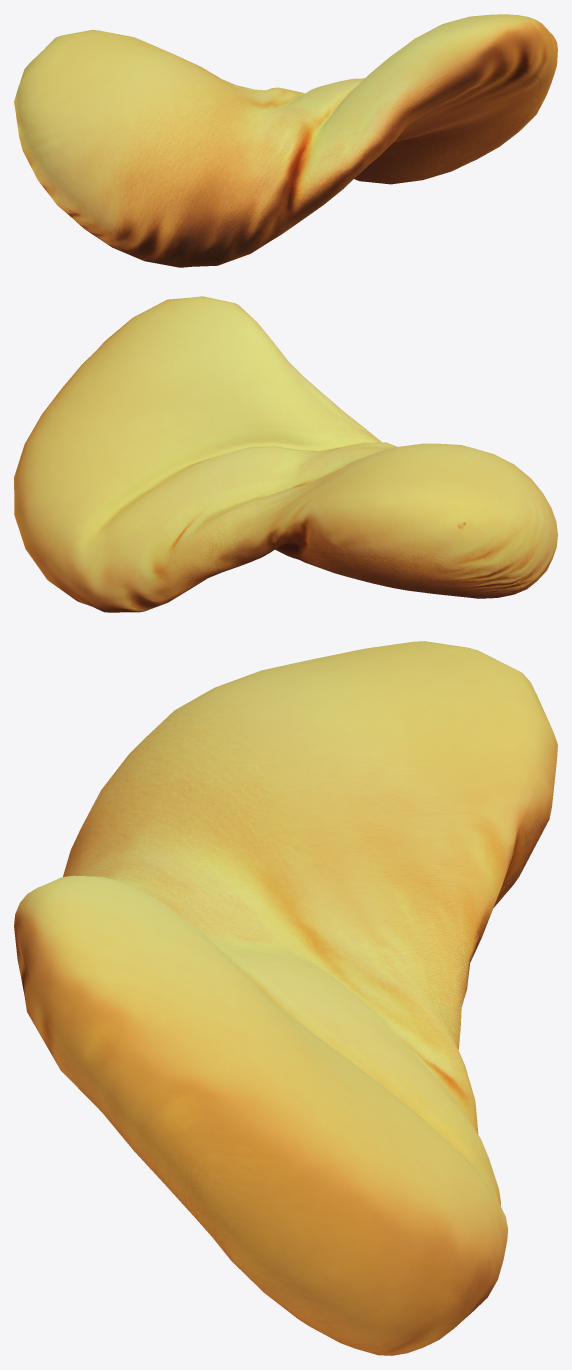
Rendered from cloth.glb.
The picture shows the model from 3 angles, top to bottom: view 1: azimuth 30°, elevation 25°; view 2: azimuth 150°, elevation 25°; view 3: azimuth 270°, elevation 25°; orthographic projection. The views are drawn at different scales.
Parts seen in each view (by area): view 1: Retopo_FABRICK_Baked; view 2: Retopo_FABRICK_Baked; view 3: Retopo_FABRICK_Baked.
Part boxes in pixels (x1,y1,x2,y2): Retopo_FABRICK_Baked: (14, 14, 557, 267); Retopo_FABRICK_Baked: (14, 296, 557, 612); Retopo_FABRICK_Baked: (14, 641, 557, 1355).
Bounding box in the file's own units: 8.03 × 3.53 × 4.1.
1 material, 1 textured.
